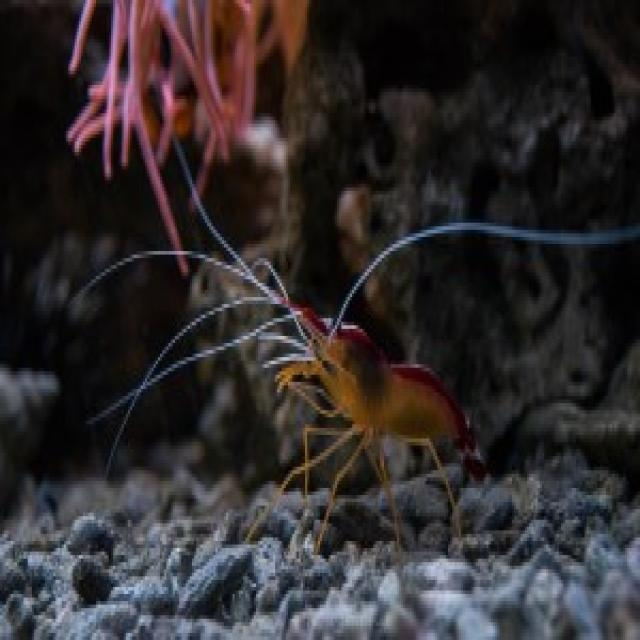lobsters: (163, 132, 618, 535)
